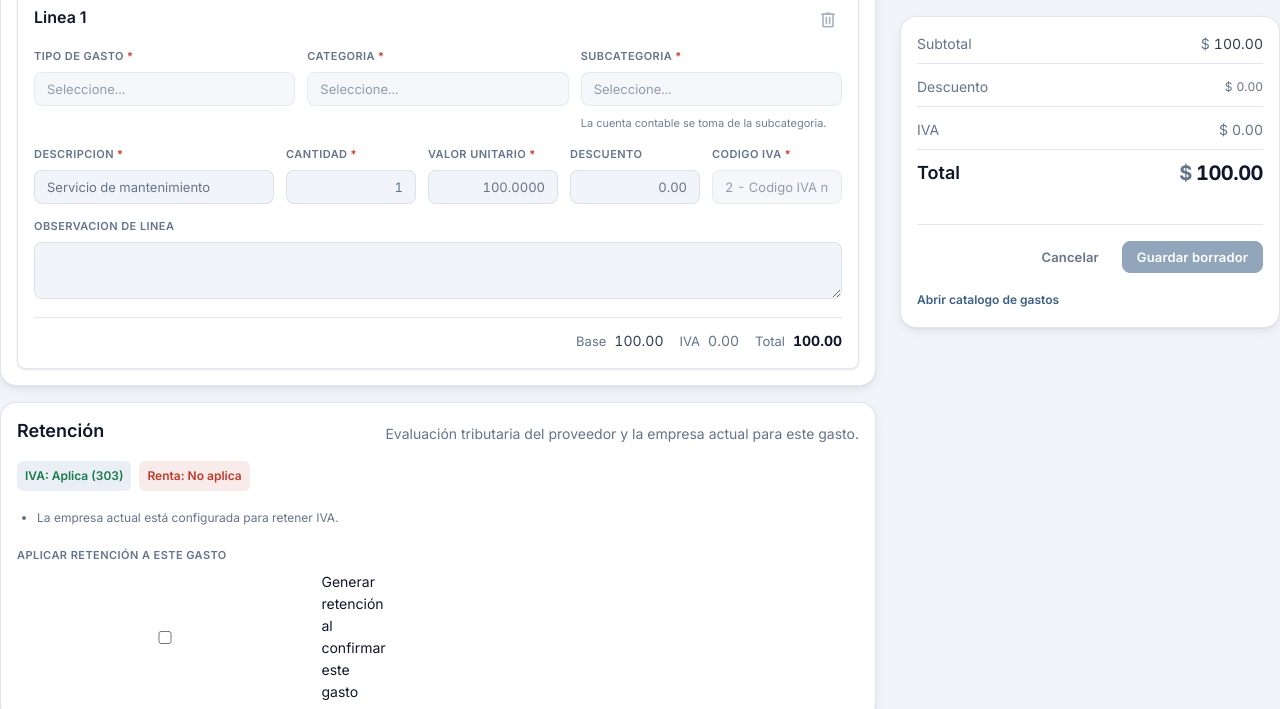
Test: ExpenseDocumentFormPage — sección de retención › caso 5: permite capturar RetentionIntent cuando es elegible
The image size is (1280, 709).
(page scrolled)
Click the checkbox labelled "Aplicar retención a este gasto" at (165, 637), box [17,631,314,644]
(page scrolled)
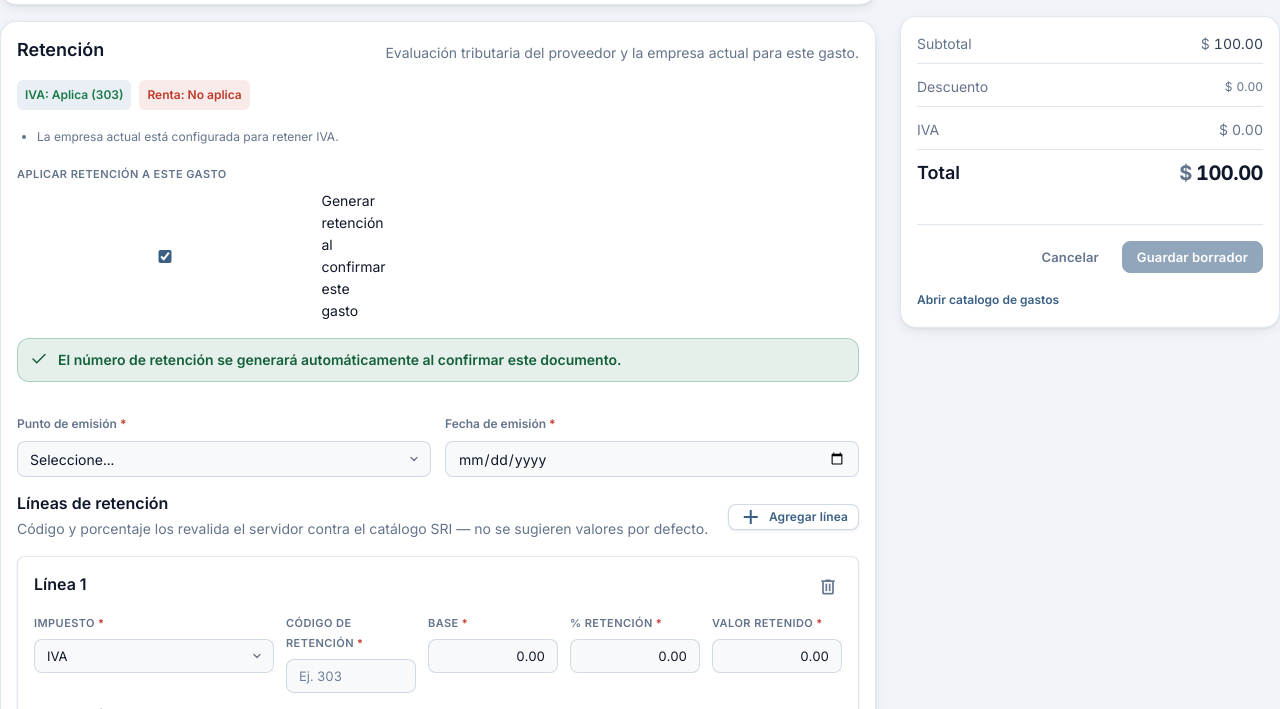
Now the text "Punto de emisión" is shown, box [17,416,117,431]
Now the text "Fecha de emisión" is shown, box [445,416,546,431]
Now the text "El número de retención se generará automáticamente al confirmar este documento." is shown, box [58,349,622,371]
